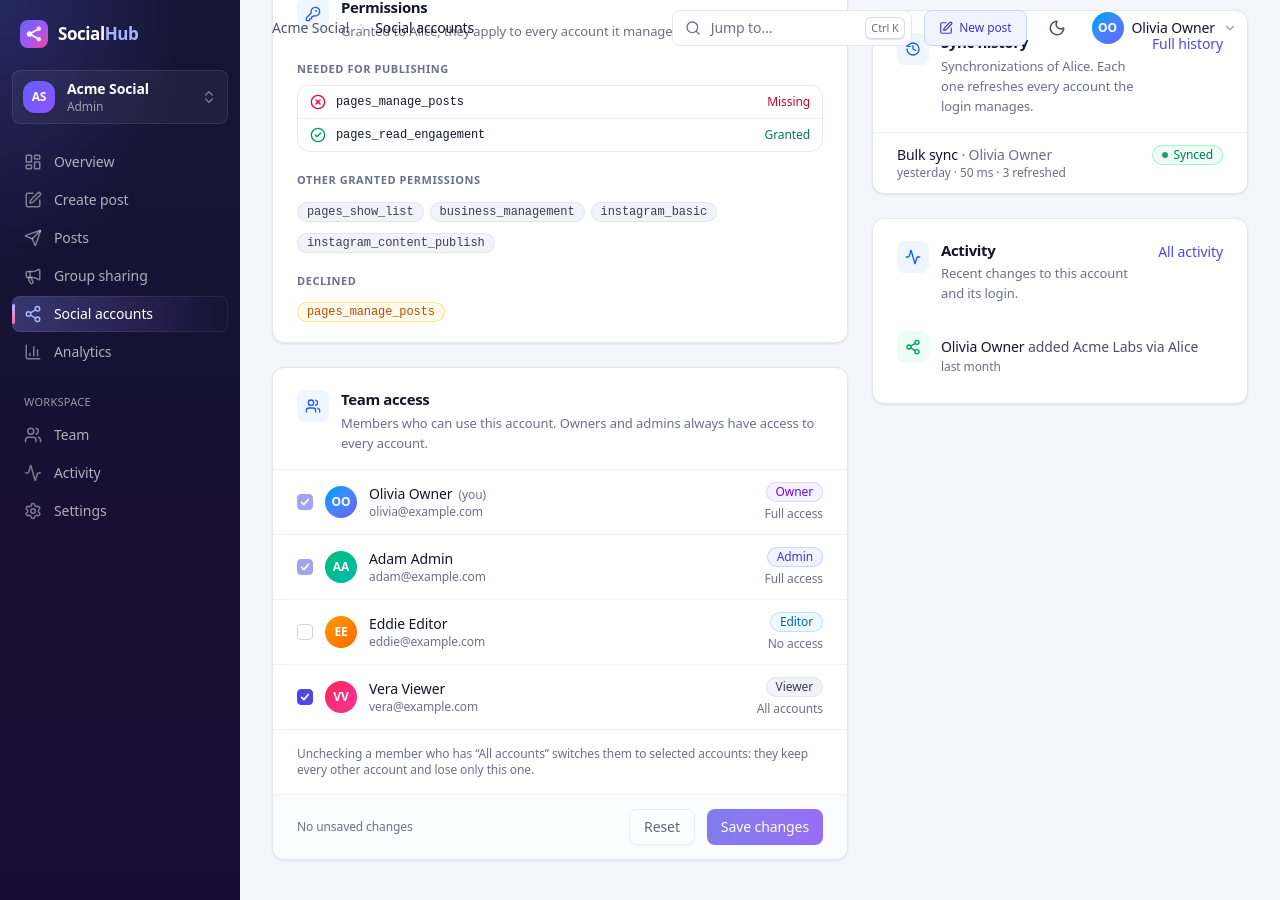
Test case: account detail — managers › shows a rejected team access change and keeps the selection
(page scrolled)
Click the checkbox named "Access for Eddie Editor": (305, 632) [297,624,313,640]
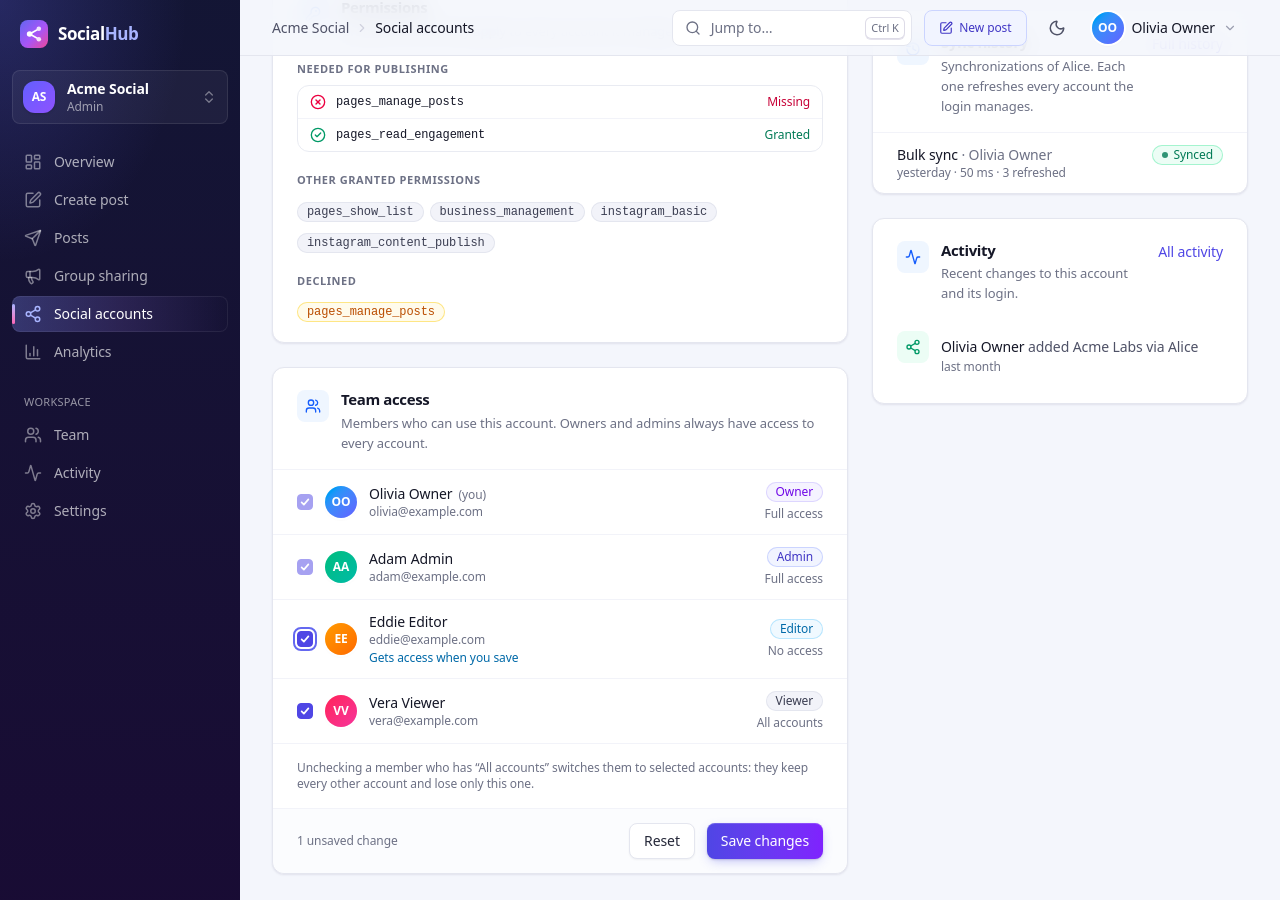
Click the button "Save changes": (765, 841) [707,823,823,859]
(page scrolled)
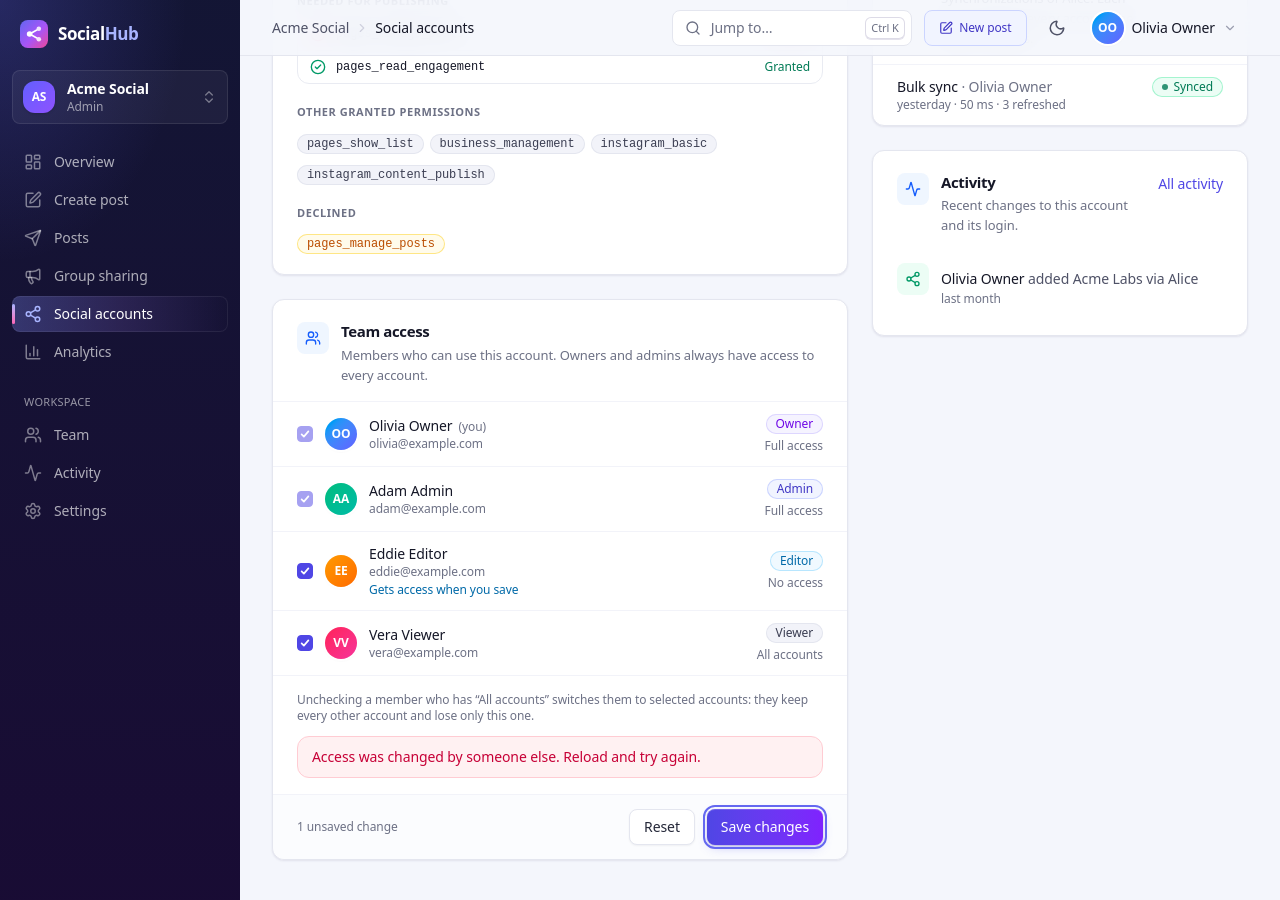
Result: the checkbox named "Access for Eddie Editor" is checked at [297,563,313,579]
Result: the message reads "Access was changed by someone else. Reload and try again." at [312,747,701,766]
Click the button "Reset": (662, 827) [629,809,695,845]
(page scrolled)
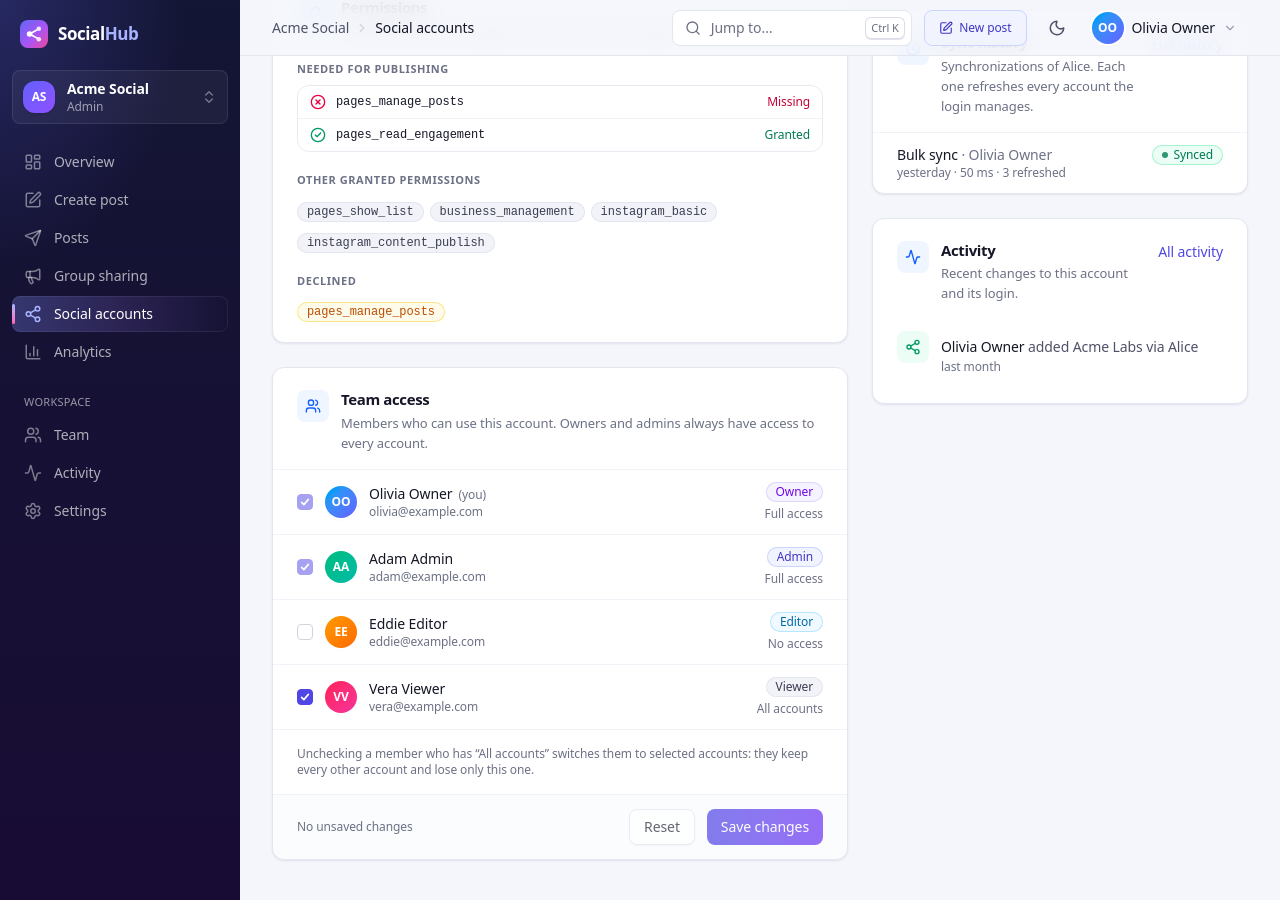
Result: the checkbox named "Access for Eddie Editor" is not checked at [297,624,313,640]
Result: the message "Access was changed by someone else. Reload and try again." is gone
